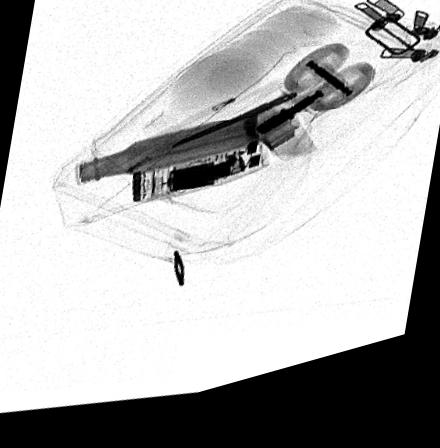Knife: (169, 108, 299, 160)
